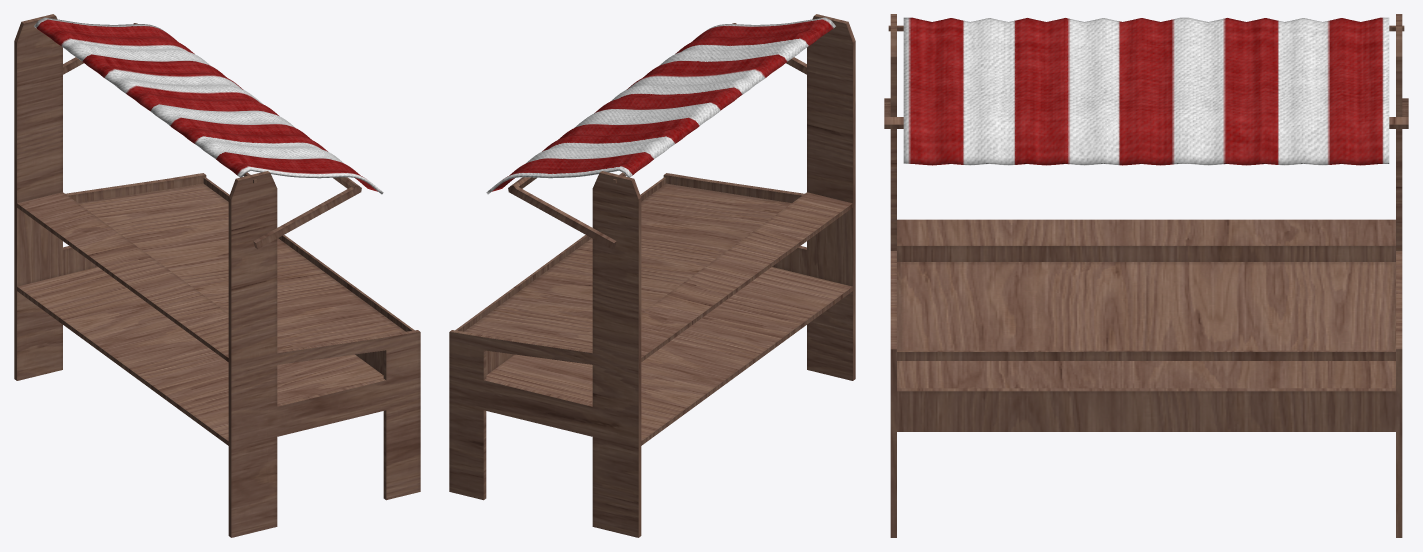
The model's file is shack.fbx.
The picture shows the model from 3 angles, left to right: view 1: azimuth 30°, elevation 25°; view 2: azimuth 150°, elevation 25°; view 3: azimuth 270°, elevation 25°; orthographic projection. The views are drawn at different scales.
Parts seen in each view (by area): view 1: Stand Shop; view 2: Stand Shop; view 3: Stand Shop.
Part boxes in pixels (left/top/right/bottom): Stand Shop: left=14, top=14, right=420, bottom=537; Stand Shop: left=449, top=14, right=855, bottom=537; Stand Shop: left=884, top=14, right=1408, bottom=537.
Bounding box in the file's own units: 112 × 203 × 228.
